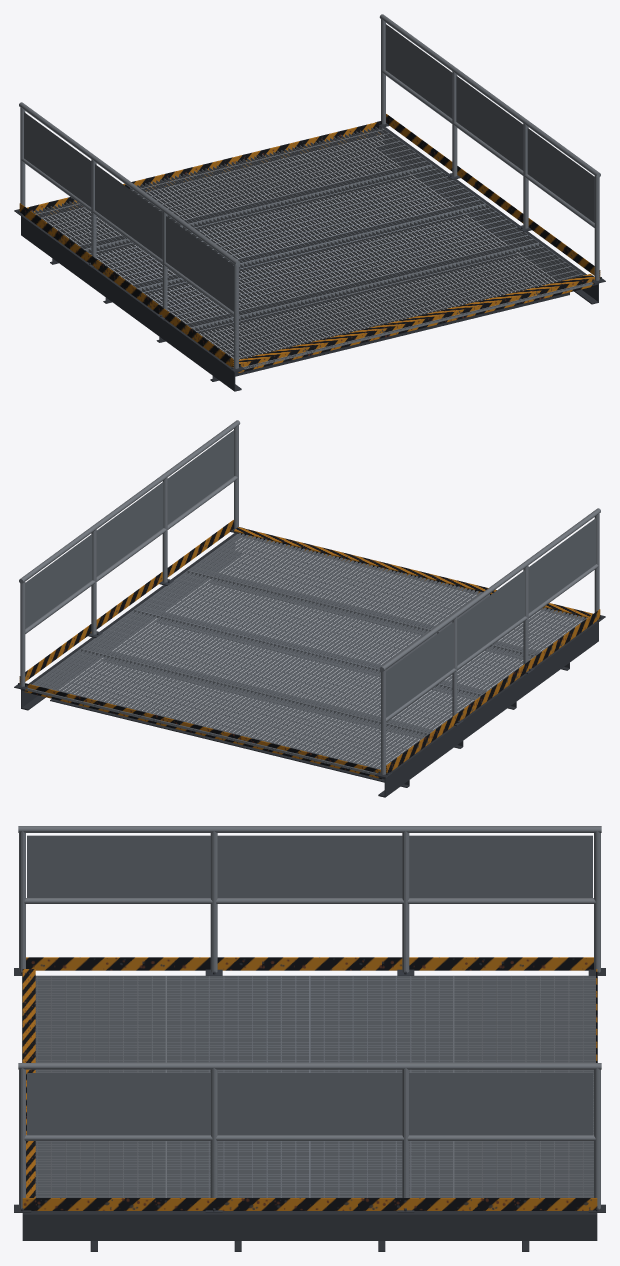
Rendered from foundry_gantry_walk.glb.
3 views of the same model, one above another, from view 1: azimuth 30°, elevation 25°; view 2: azimuth 150°, elevation 25°; view 3: azimuth 270°, elevation 25° (orthographic). The views are drawn at different scales.
Visible parts, largest first — view 1: walk_grating2, walk_grating3, walk_grating1, walk_grating0, walk_rail_n_infill, walk_rail_p_infill, walk_stringer_n, walk_nose_p, walk_transoms, walk_nose_n, walk_rail_p_posts, walk_rail_n_toe (+7 smaller); view 2: walk_grating0, walk_grating1, walk_grating2, walk_grating3, walk_rail_n_infill, walk_rail_p_infill, walk_stringer_n, walk_transoms, walk_nose_n, walk_rail_p_posts, walk_rail_n_toe, walk_nose_p (+7 smaller); view 3: walk_rail_n_infill, walk_rail_p_infill, walk_grating0, walk_grating1, walk_grating2, walk_grating3, walk_stringer_p, walk_rail_n_toe, walk_rail_p_toe, walk_rail_n_posts, walk_rail_n_rail_top, walk_rail_p_rail_top (+4 smaller).
Boxes of the visible parts, x1,y1,x2,y2 form: walk_grating2: [137, 203, 538, 327]; walk_grating3: [191, 243, 592, 369]; walk_grating1: [84, 164, 485, 288]; walk_grating0: [31, 126, 431, 249]; walk_rail_n_infill: [24, 112, 233, 311]; walk_rail_p_infill: [385, 24, 594, 222]; walk_stringer_n: [21, 215, 241, 391]; walk_nose_p: [238, 274, 595, 373]; walk_transoms: [50, 168, 569, 381]; walk_nose_n: [27, 121, 381, 217]; walk_rail_p_posts: [381, 18, 599, 280]; walk_rail_n_toe: [19, 203, 233, 367]; walk_grating0: [27, 649, 428, 775]; walk_grating1: [81, 609, 482, 733]; walk_grating2: [134, 570, 535, 694]; walk_grating3: [188, 533, 587, 655]; walk_rail_n_infill: [386, 518, 595, 717]; walk_rail_p_infill: [25, 430, 234, 628]; walk_stringer_n: [378, 621, 598, 797]; walk_transoms: [50, 574, 569, 787]; walk_nose_n: [24, 683, 381, 779]; walk_rail_p_posts: [20, 424, 238, 686]; walk_rail_n_toe: [386, 609, 600, 773]; walk_nose_p: [233, 527, 592, 619]; walk_rail_n_infill: [27, 835, 592, 897]; walk_rail_p_infill: [27, 1073, 592, 1135]; walk_grating0: [453, 975, 597, 1197]; walk_grating1: [310, 975, 453, 1197]; walk_grating2: [166, 975, 309, 1197]; walk_grating3: [22, 975, 166, 1197]; walk_stringer_p: [22, 1211, 597, 1240]; walk_rail_n_toe: [26, 957, 593, 970]; walk_rail_p_toe: [22, 1198, 597, 1210]; walk_rail_n_posts: [19, 831, 600, 972]; walk_rail_n_rail_top: [18, 826, 601, 832]; walk_rail_p_rail_top: [18, 1063, 601, 1069].
Bounding box in the file's own units: 4.02 × 1.46 × 4.12.
4 materials, 1 textured.
